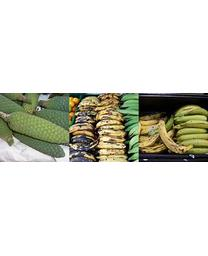banana: (71, 93, 139, 161), (140, 101, 207, 159)
